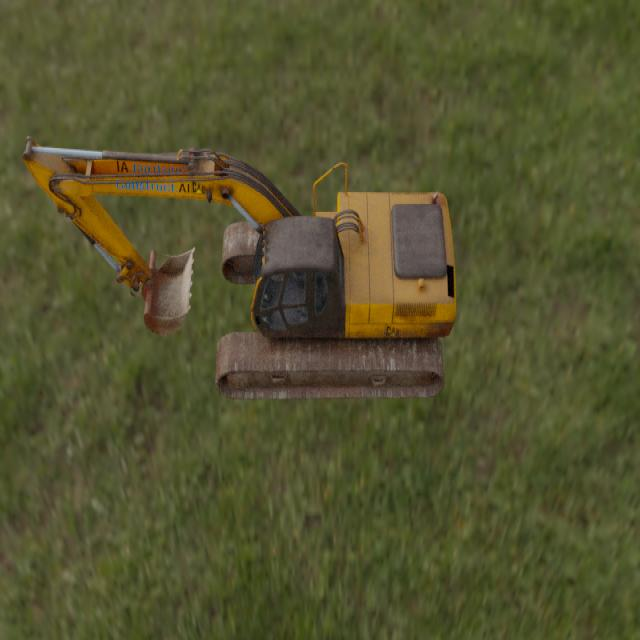excavator: (22, 134, 456, 398)
